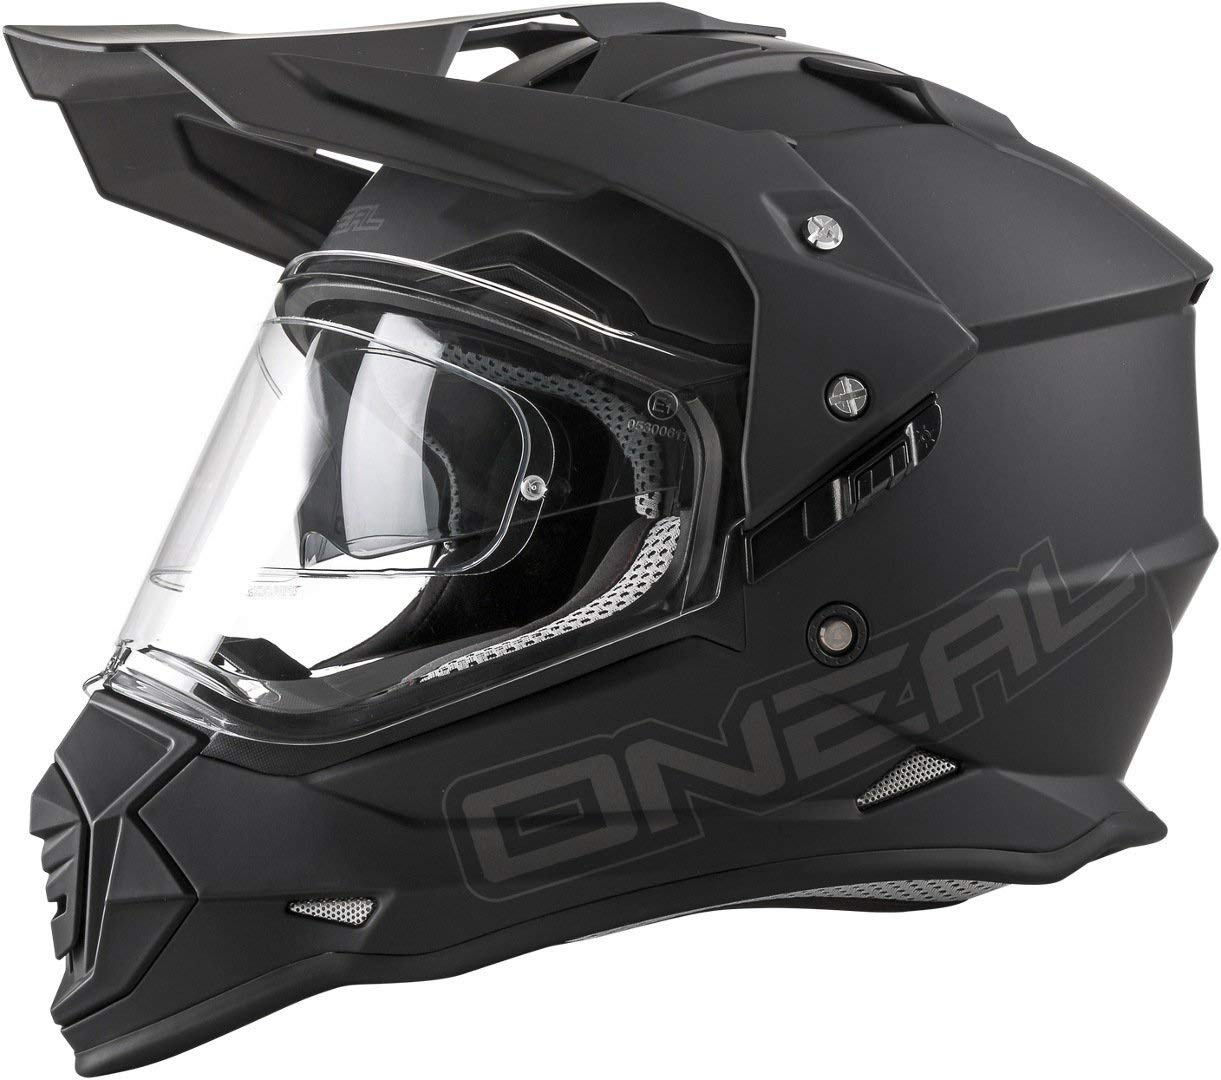with_helmet: (1, 1, 1221, 1074)
